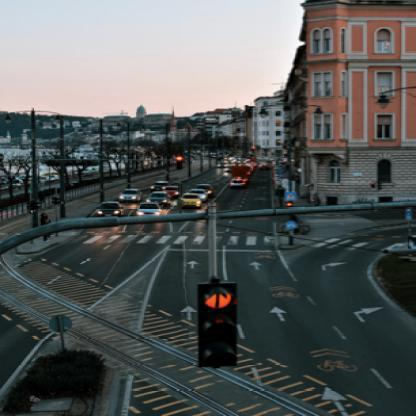trafficlight: (195, 280, 236, 366)
